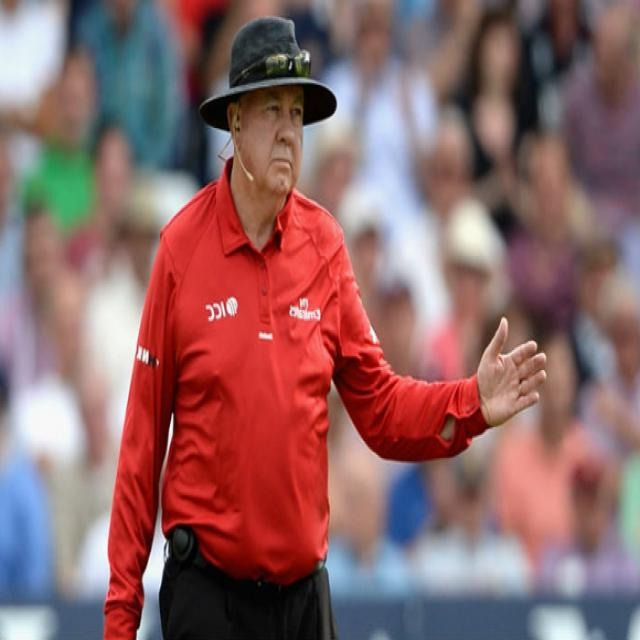No_Ball: (98, 6, 560, 640)
